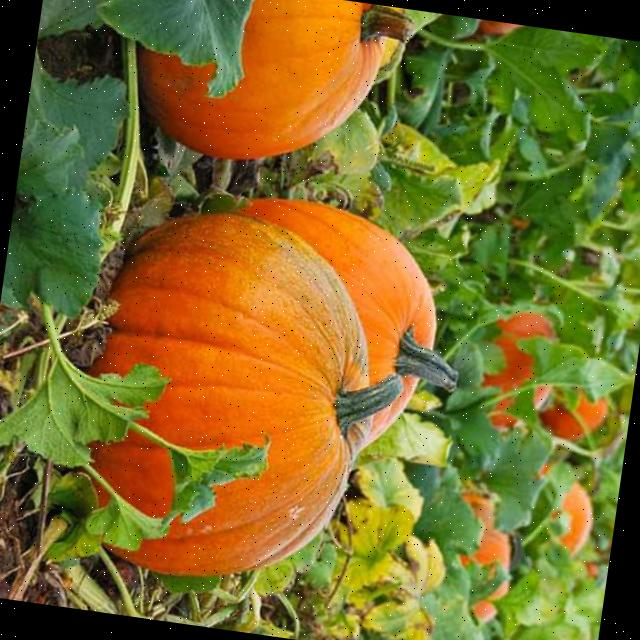pumpkin: (94, 214, 401, 575), (242, 199, 457, 443), (139, 0, 413, 159), (92, 432, 173, 516), (483, 312, 554, 393), (463, 493, 510, 573), (540, 396, 606, 440), (559, 482, 592, 556), (478, 19, 522, 36), (488, 583, 507, 600), (536, 388, 550, 403)
